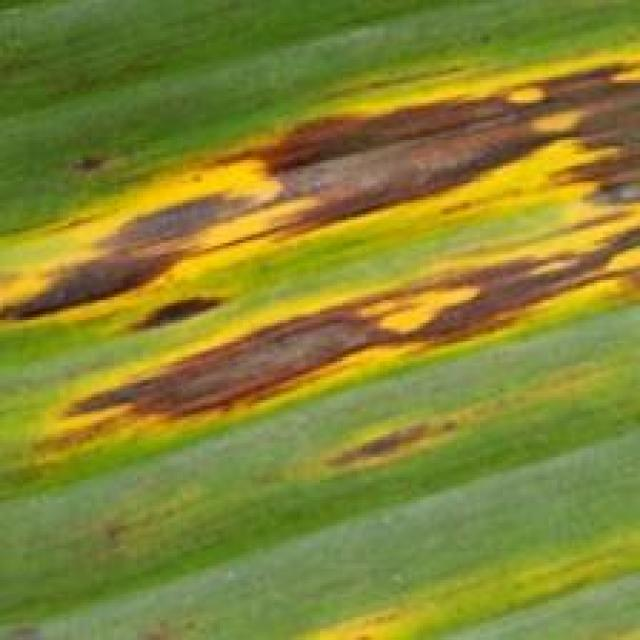Early_leaf_spot: (0, 42, 640, 475), (280, 531, 640, 640), (48, 137, 130, 213)
